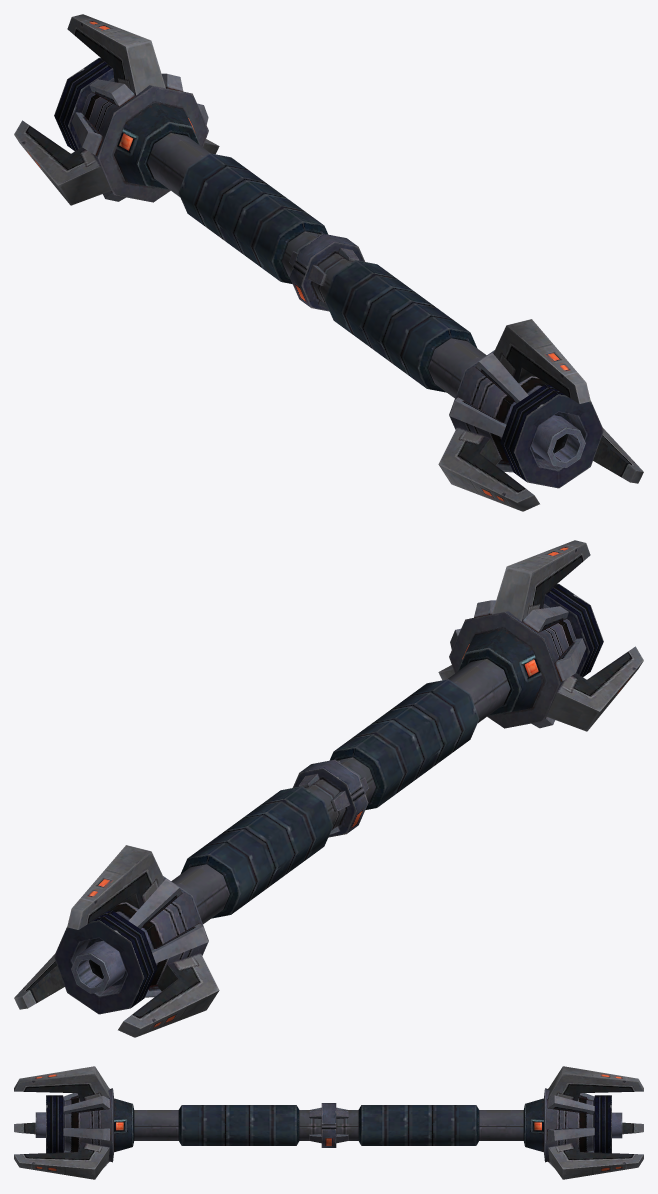
The model's file is staff2.glb.
The picture shows the model from 3 angles, top to bottom: view 1: azimuth 30°, elevation 25°; view 2: azimuth 150°, elevation 25°; view 3: azimuth 270°, elevation 25°; orthographic projection. The views are drawn at different scales.
Parts seen in each view (by area): view 1: dualsaber_high02_a01_v01; view 2: dualsaber_high02_a01_v01; view 3: dualsaber_high02_a01_v01.
Boxes of the visible parts, left/top/right/bottom form: dualsaber_high02_a01_v01: left=14, top=14, right=643, bottom=511; dualsaber_high02_a01_v01: left=14, top=540, right=643, bottom=1037; dualsaber_high02_a01_v01: left=14, top=1066, right=643, bottom=1179.
Bounding box in the file's own units: 0.0134 × 0.0118 × 0.0736.
Materials: 1 (1 with a texture image).
